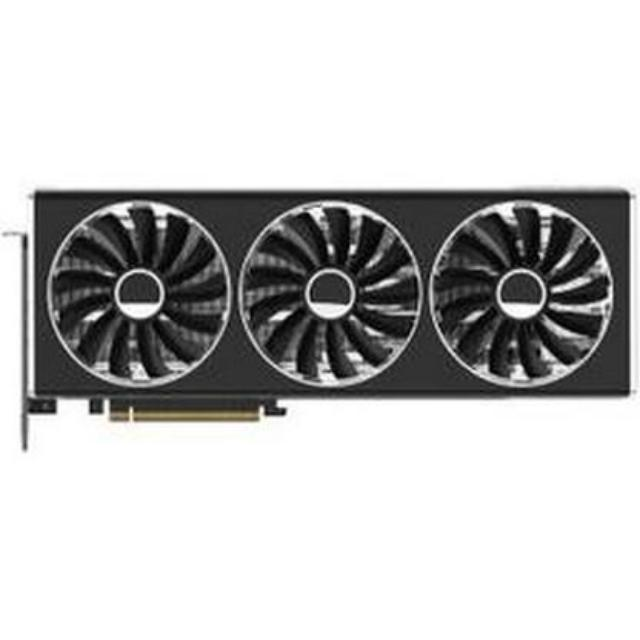GPU: (21, 186, 632, 420)
